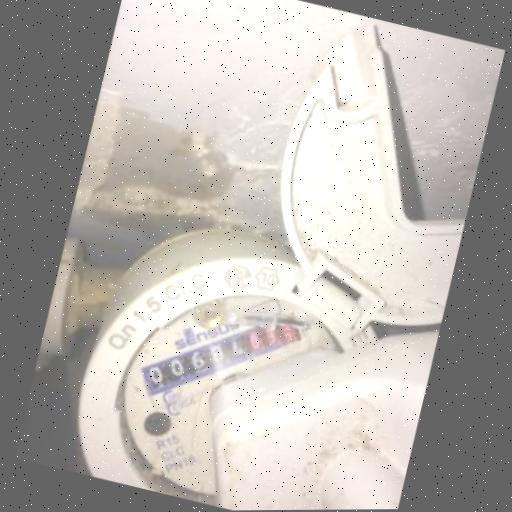0: (156, 348, 197, 390), (137, 356, 177, 397), (236, 322, 273, 360)
3: (253, 317, 290, 355)
4: (218, 326, 258, 368)
6: (177, 339, 219, 382), (269, 310, 306, 349)
8: (197, 333, 238, 375)
border_water_meter_number: (129, 275, 316, 433)
